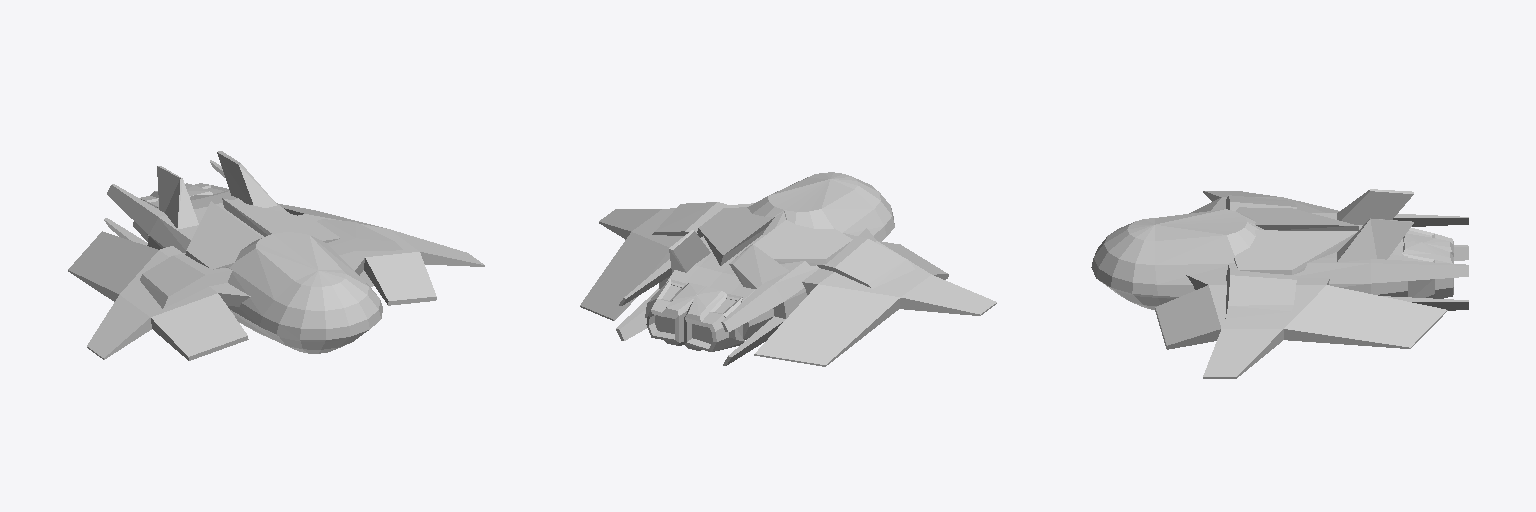
3 renders of one model, left to right at view 1: azimuth 30°, elevation 25°; view 2: azimuth 150°, elevation 25°; view 3: azimuth 270°, elevation 25°, orthographic.
Parts seen in each view (by area): view 1: AstraFighter; view 2: AstraFighter; view 3: AstraFighter.
Boxes of the visible parts, x1=… form: AstraFighter: x1=68, y1=151, x2=484, y2=360; AstraFighter: x1=580, y1=172, x2=996, y2=366; AstraFighter: x1=1091, y1=189, x2=1468, y2=378.
Bounding box in the file's own units: 0.5659 × 0.1477 × 0.4846.